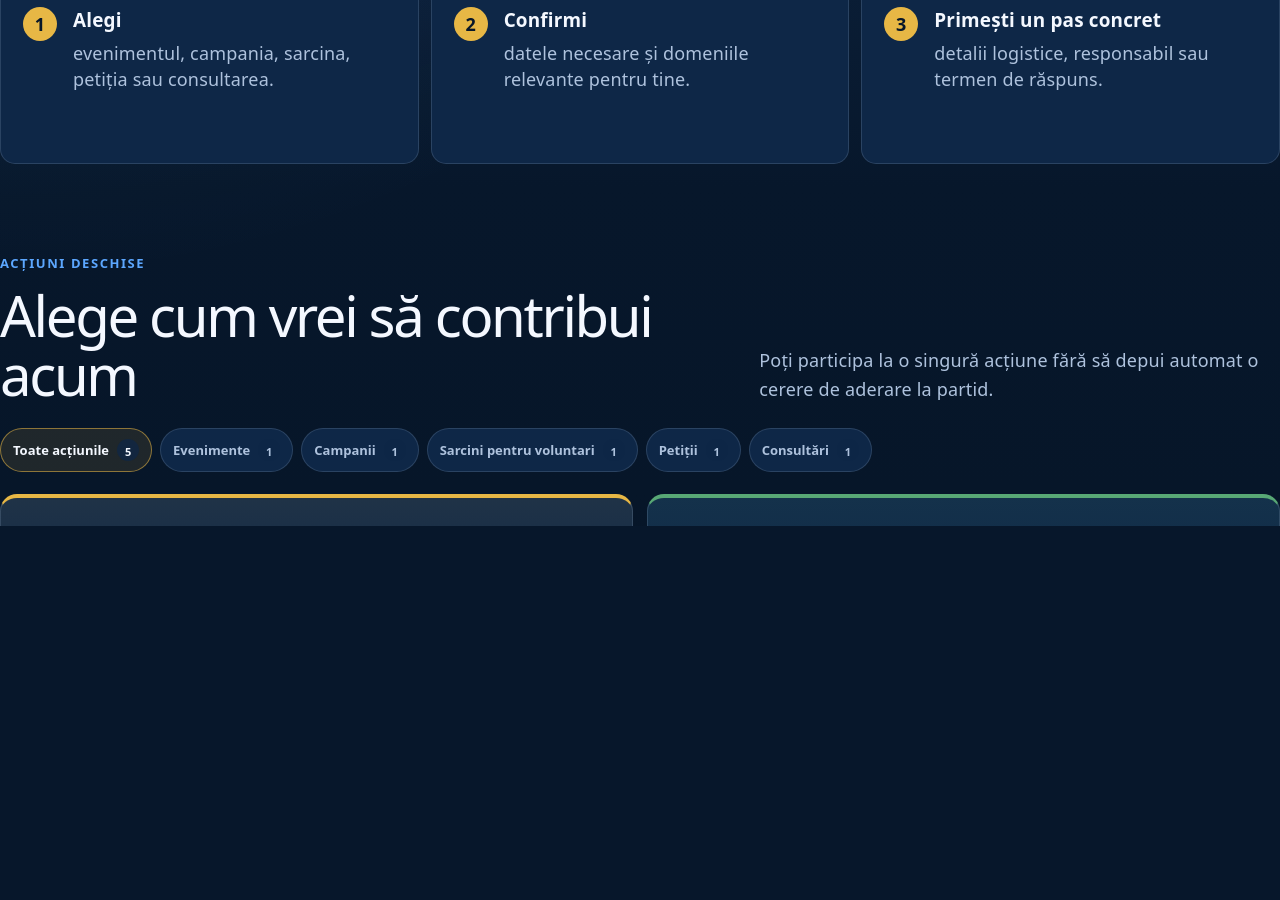
MobilizationPage › filters the action catalog
(page scrolled)
Step 1. Click the button "Petiții 1" → (693, 450), box top-left (646, 428), bottom-right (741, 472)
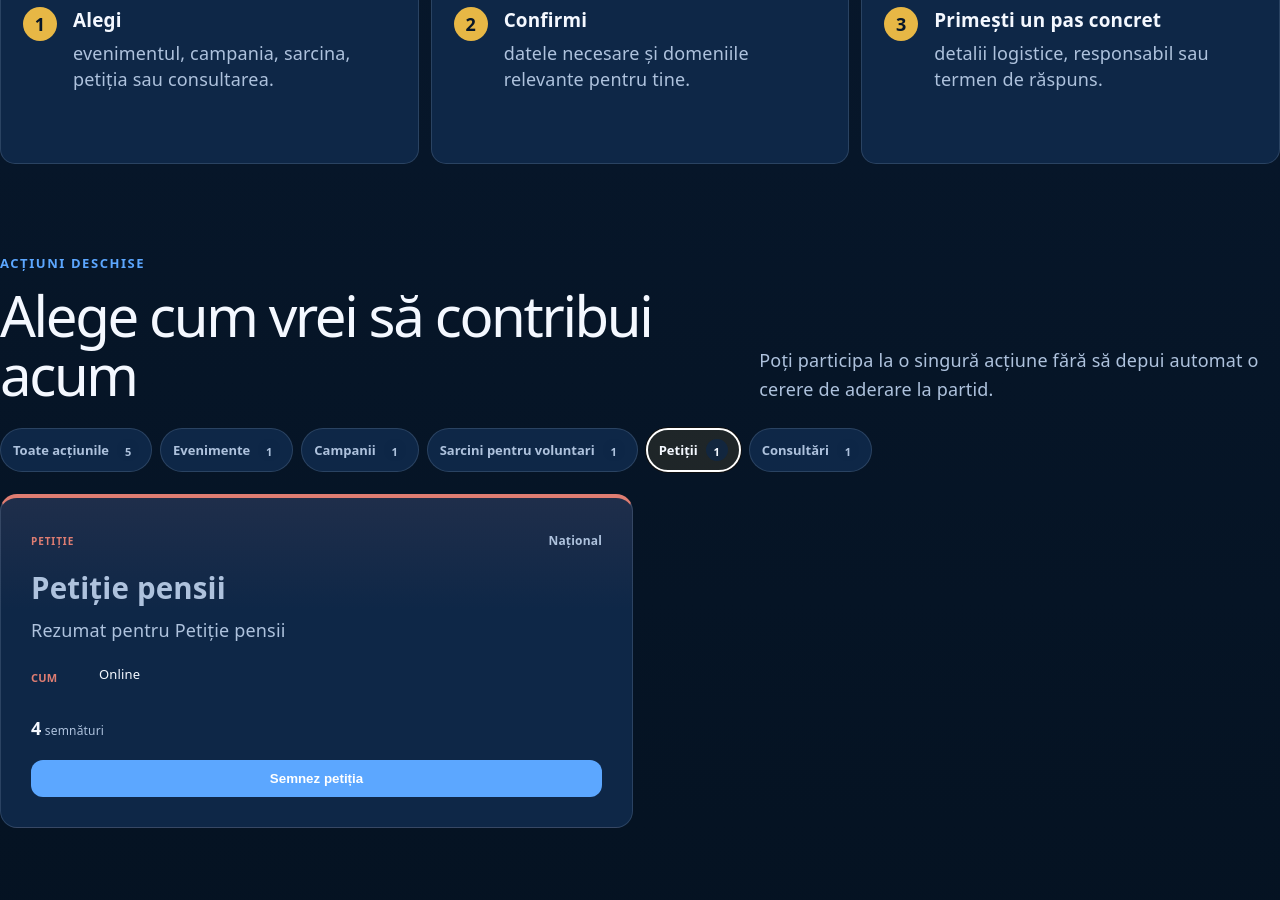
Check: the heading "Petiție pensii" is shown, box top-left (31, 568), bottom-right (226, 608)
Check: the heading "Orientare voluntari" is gone
